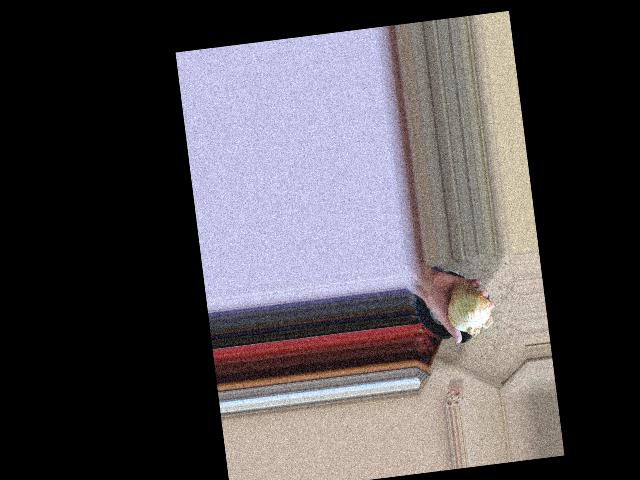onion: (442, 278, 491, 336)
